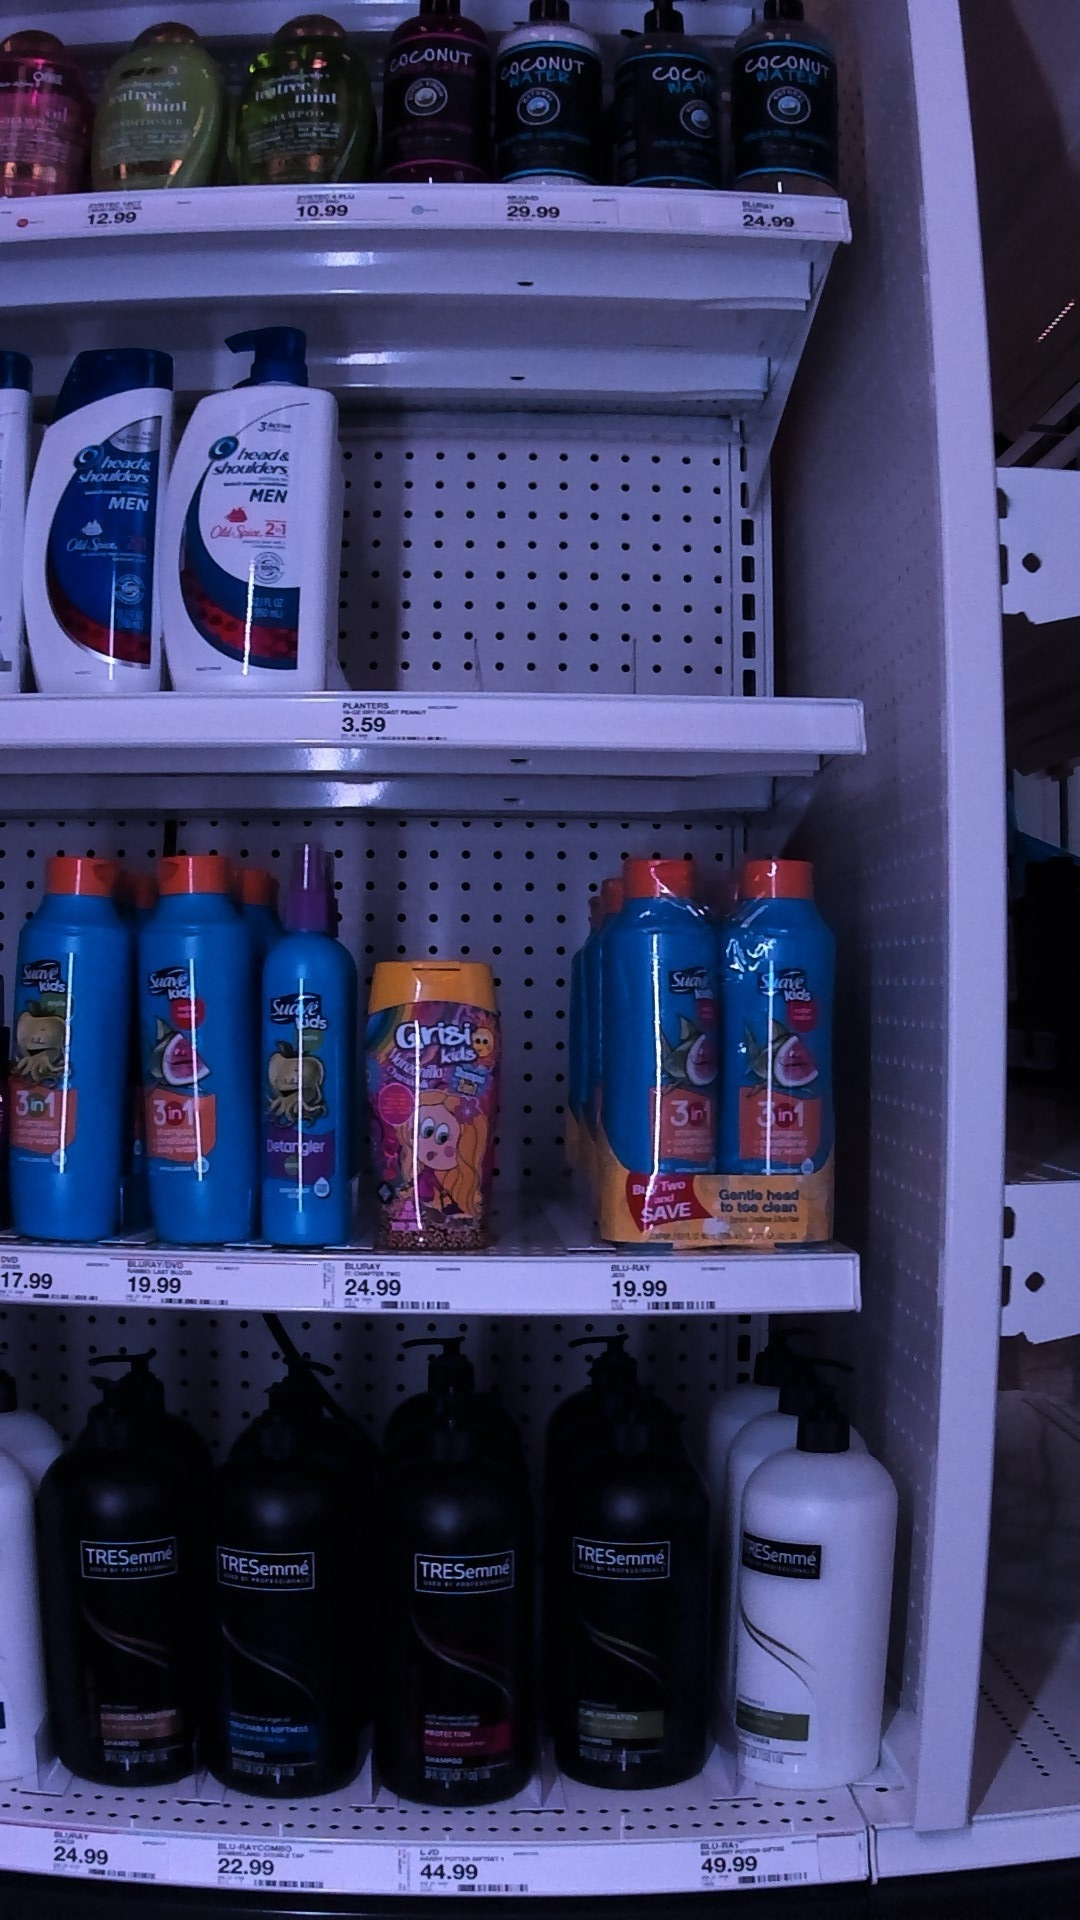ptag: (338, 1246, 460, 1320), (46, 1815, 160, 1894), (603, 1257, 727, 1327), (334, 686, 458, 753), (413, 1842, 542, 1904), (3, 1249, 113, 1317), (694, 1842, 825, 1898), (211, 1837, 331, 1898), (127, 1255, 235, 1311), (78, 191, 171, 251), (731, 189, 820, 243), (280, 186, 371, 237), (500, 186, 571, 237)
